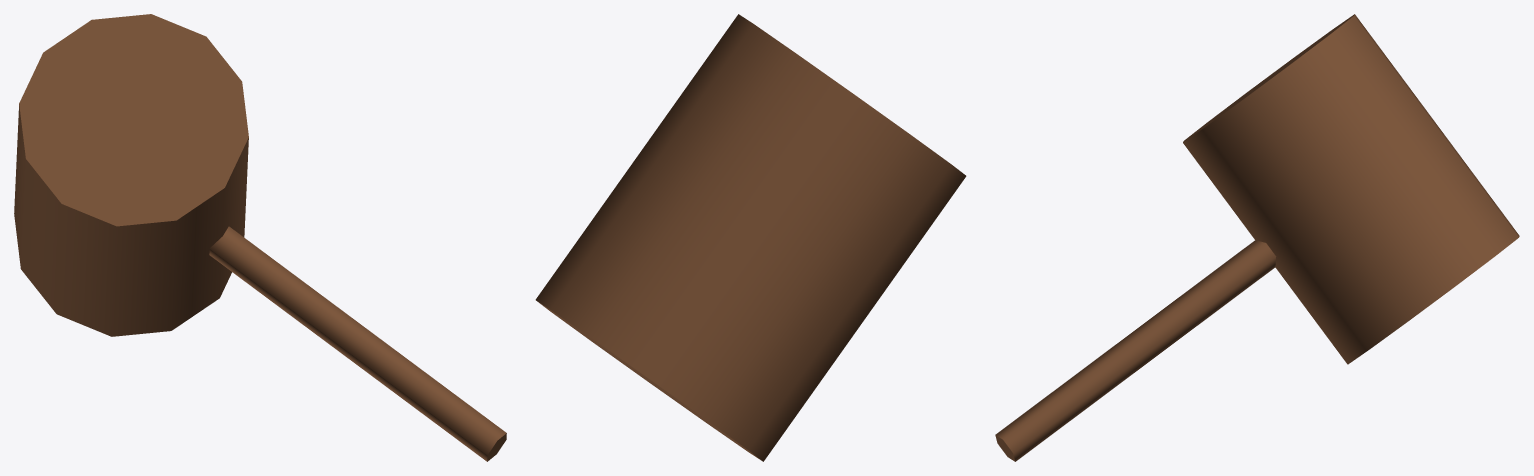
File: Asset_fort_marteau.fbx
3 renders of one model, left to right at view 1: azimuth 30°, elevation 25°; view 2: azimuth 150°, elevation 25°; view 3: azimuth 270°, elevation 25°, orthographic. The views are drawn at different scales.
Visible parts, largest first — view 1: FORT_marteau; view 2: FORT_marteau; view 3: FORT_marteau.
Boxes of the visible parts, x1,y1,x2,y2 form: FORT_marteau: (14, 14, 506, 461); FORT_marteau: (535, 14, 966, 461); FORT_marteau: (995, 14, 1519, 461).
Size of the model in its own units: 1.64 by 1.71 by 2.36.
